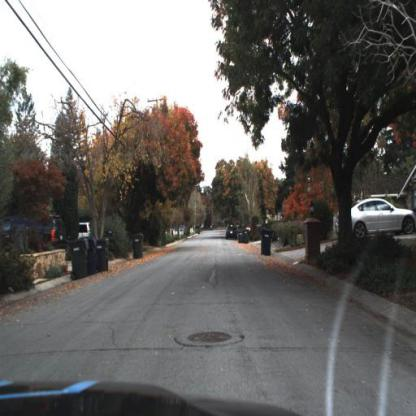car: (335, 197, 416, 241), (1, 212, 69, 254), (225, 222, 241, 247), (77, 224, 92, 240)
